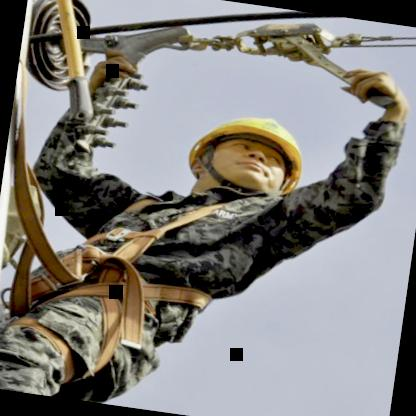helmet: (170, 90, 330, 216)
